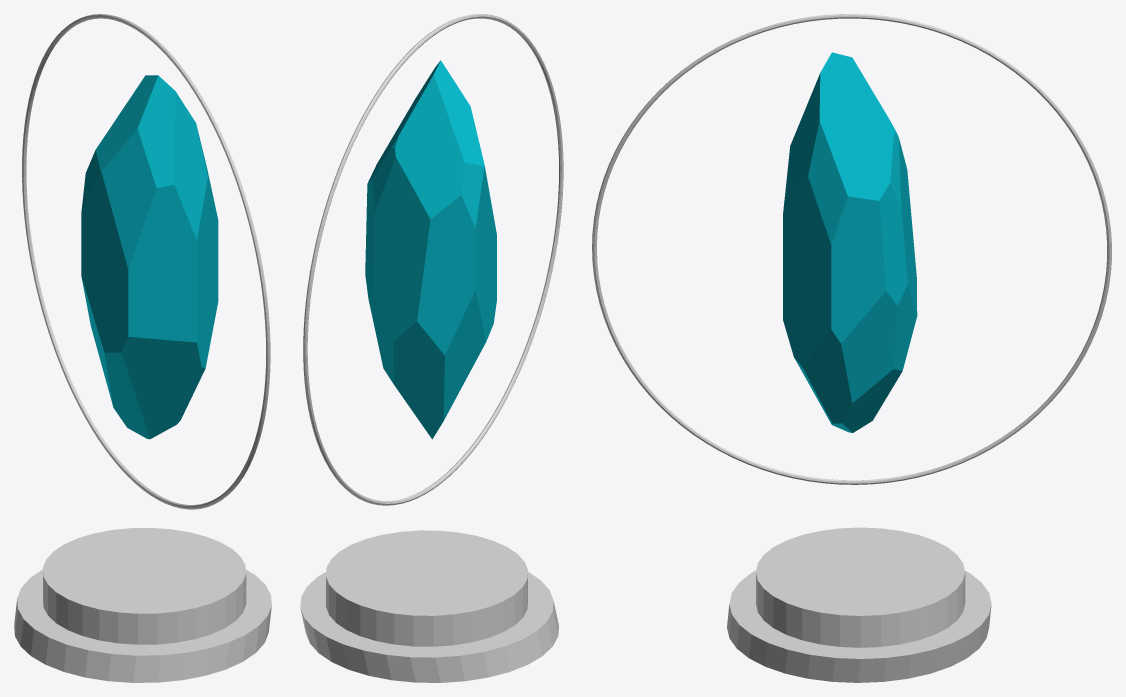
Rendered from savepointnofx.fbx.
The picture shows the model from 3 angles, left to right: view 1: azimuth 30°, elevation 25°; view 2: azimuth 150°, elevation 25°; view 3: azimuth 270°, elevation 25°; orthographic projection. The views are drawn at different scales.
Parts seen in each view (by area): view 1: Cylinder.002, Cylinder, Torus.002; view 2: Cylinder.002, Cylinder, Torus.002; view 3: Cylinder.002, Cylinder, Torus.002.
Boxes of the visible parts, x1,y1,x2,y2 form: Cylinder.002: (81,75,218,439); Cylinder: (14,528,271,682); Torus.002: (22,14,270,509); Cylinder.002: (365,60,496,439); Cylinder: (300,530,558,682); Torus.002: (303,14,563,505); Cylinder.002: (783,52,917,432); Cylinder: (727,527,991,682); Torus.002: (592,14,1111,484).
Bounding box in the file's own units: 1433 × 3636 × 2787.
